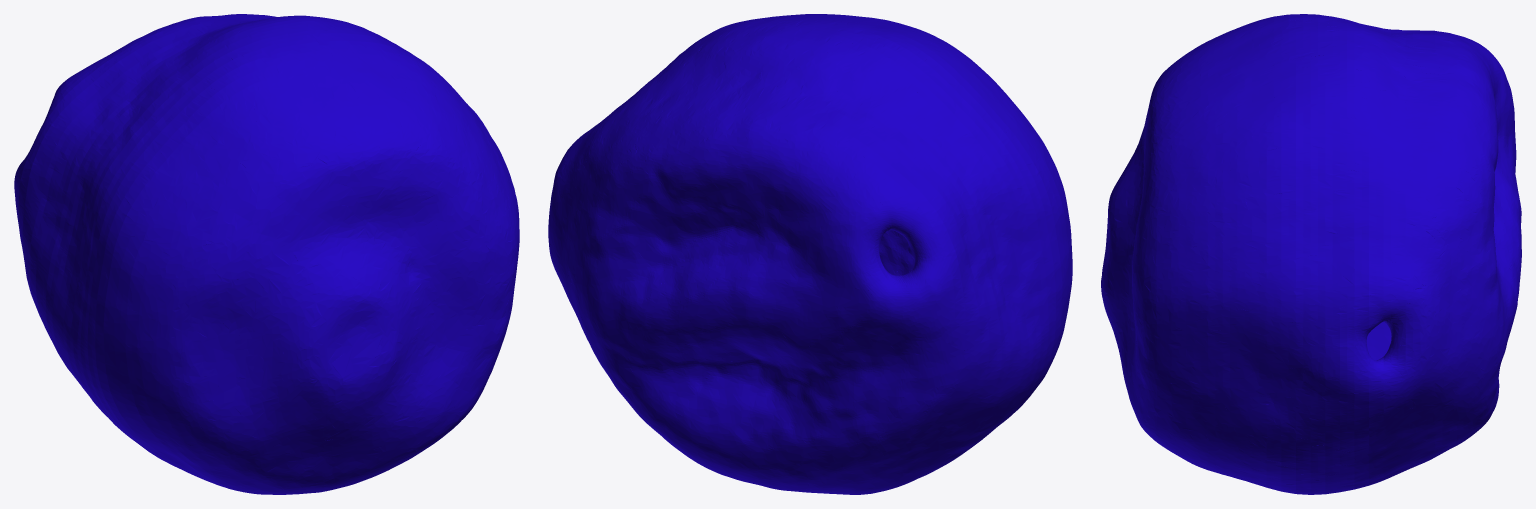
File: 3DPX-022945-0.glb
3 renders of one model, left to right at view 1: azimuth 30°, elevation 25°; view 2: azimuth 150°, elevation 25°; view 3: azimuth 270°, elevation 25°, orthographic. The views are drawn at different scales.
Bounding box in the file's own units: 34.91 × 33 × 28.85.
